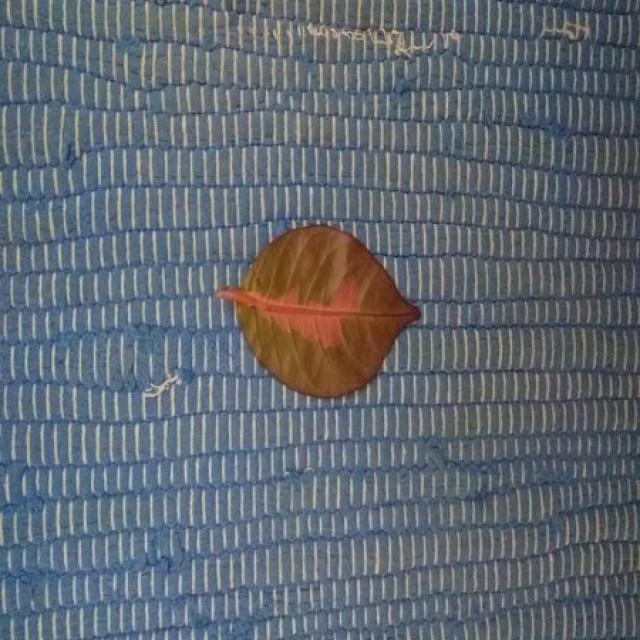caricature: (220, 225, 420, 397)
